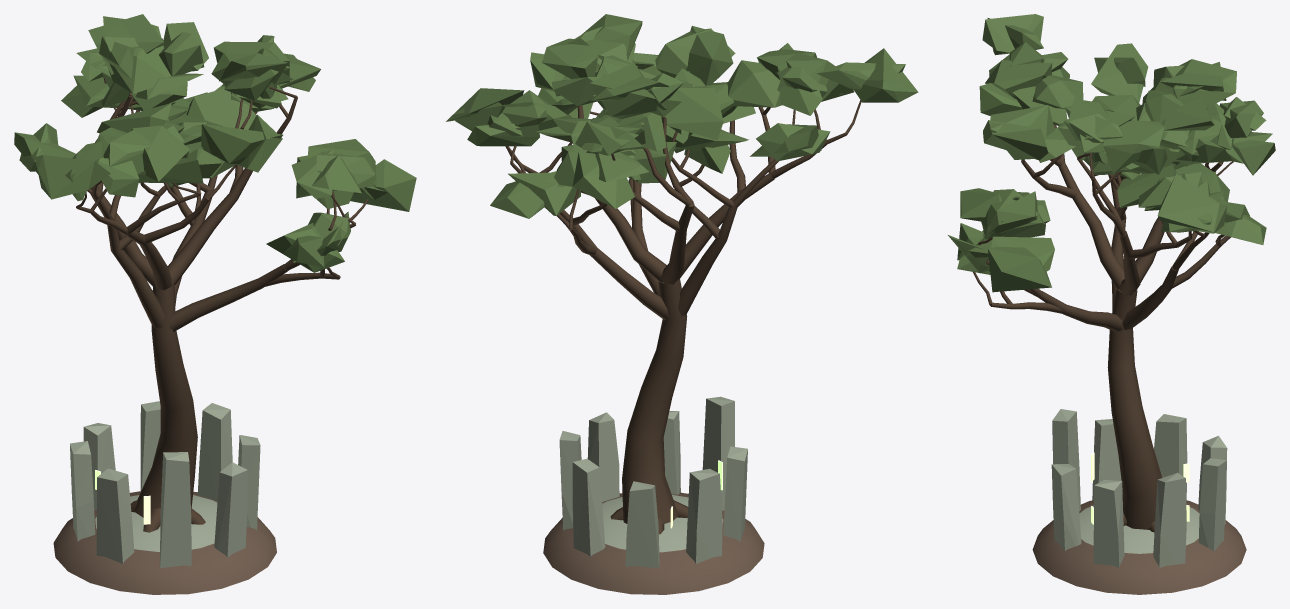
Rendered from tower_grove_3.glb.
3 renders of one model, left to right at view 1: azimuth 30°, elevation 25°; view 2: azimuth 150°, elevation 25°; view 3: azimuth 270°, elevation 25°, orthographic. The views are drawn at different scales.
Parts seen in each view (by area): view 1: tower; view 2: tower; view 3: tower.
Part boxes in pixels (bbox=[...]): tower: bbox=[14, 14, 416, 594]; tower: bbox=[446, 14, 918, 594]; tower: bbox=[948, 14, 1275, 594].
Size of the model in its own units: 3.8 by 4.9 by 3.07.
